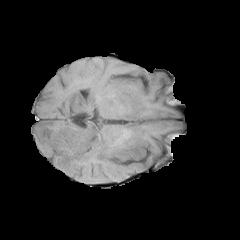glioma: (38, 90, 147, 182)
